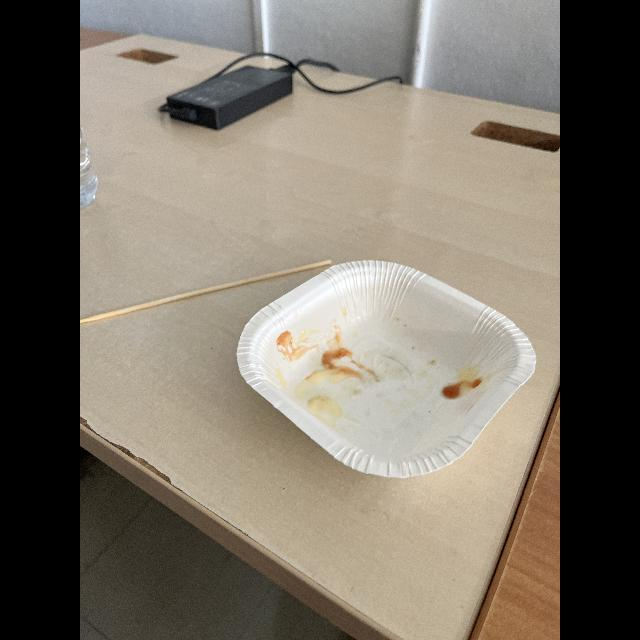cardboard_bowl: (232, 252, 540, 482)
stick: (80, 254, 338, 328)
